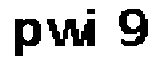9: (116, 6, 150, 50)
i: (87, 5, 110, 56)
p: (10, 15, 45, 60)
w: (46, 17, 87, 48)
